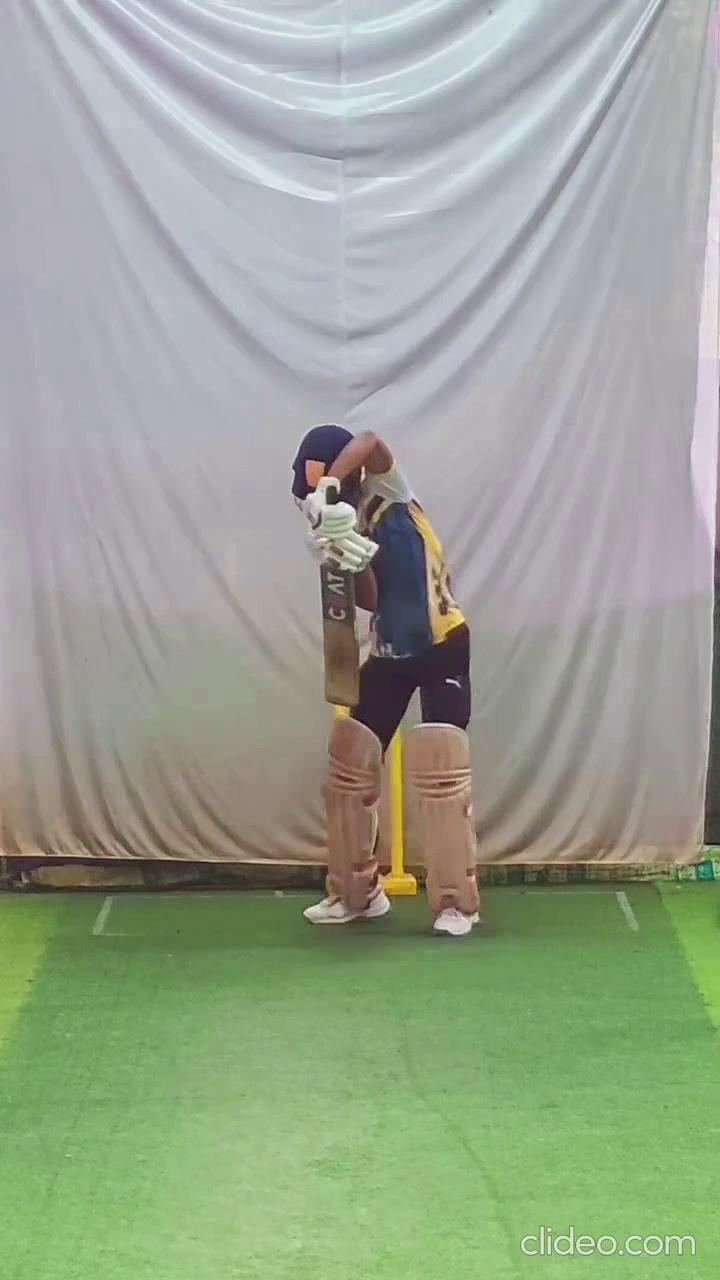bat: (317, 561, 362, 710)
